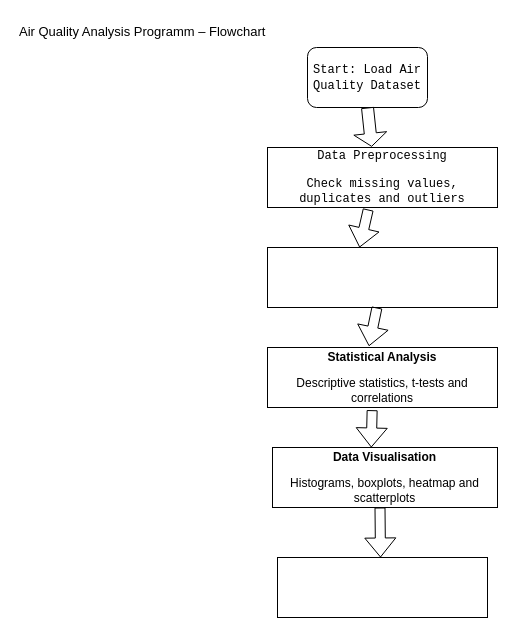
The diagram is 515 pixels wide and 635 high, and some of its shapes have lost their labels. The centre of each missing label's shape, as x and y in pixels:
"Data Transformation Create Pollution Index and encode data" belongs at pixel 382 277.
"Save Results and Finish" belongs at pixel 382 587.
